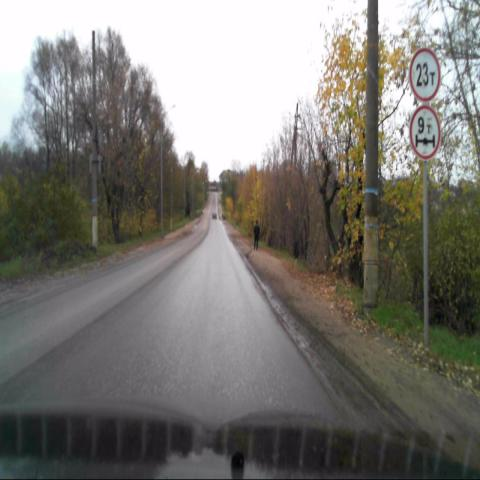3_11: (408, 48, 440, 102), (409, 105, 440, 159)
